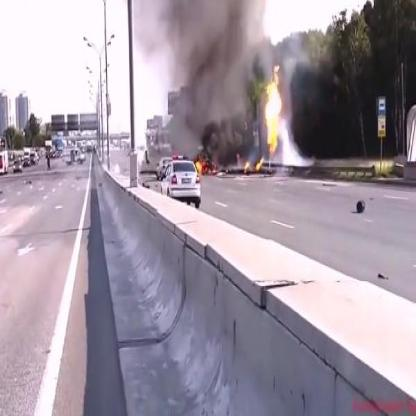fire: (264, 62, 283, 157), (195, 155, 218, 178), (243, 155, 269, 173)
